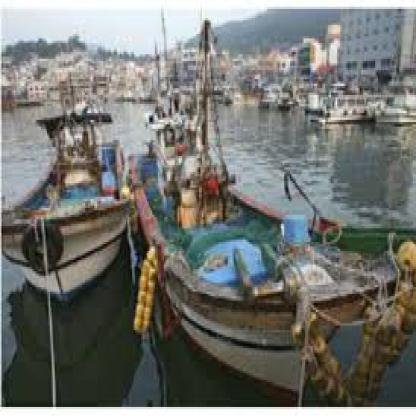Ship: (133, 32, 416, 416), (1, 85, 142, 307)
